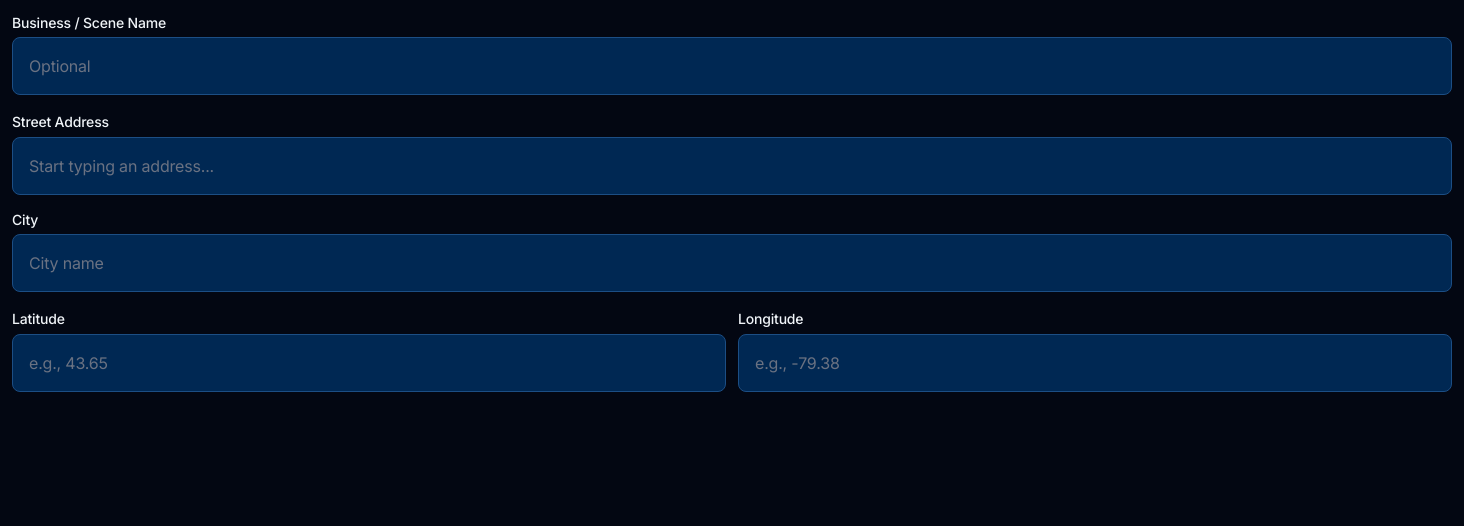
Test case: IncidentLocationFields — address pick › fills street, city and the coordinates, stamped geocoded
The width and height of the screenshot is (1464, 526).
Type "1450 Eg" into the dropdown named "Street Address" at (732, 166), box [12, 137, 1452, 195]
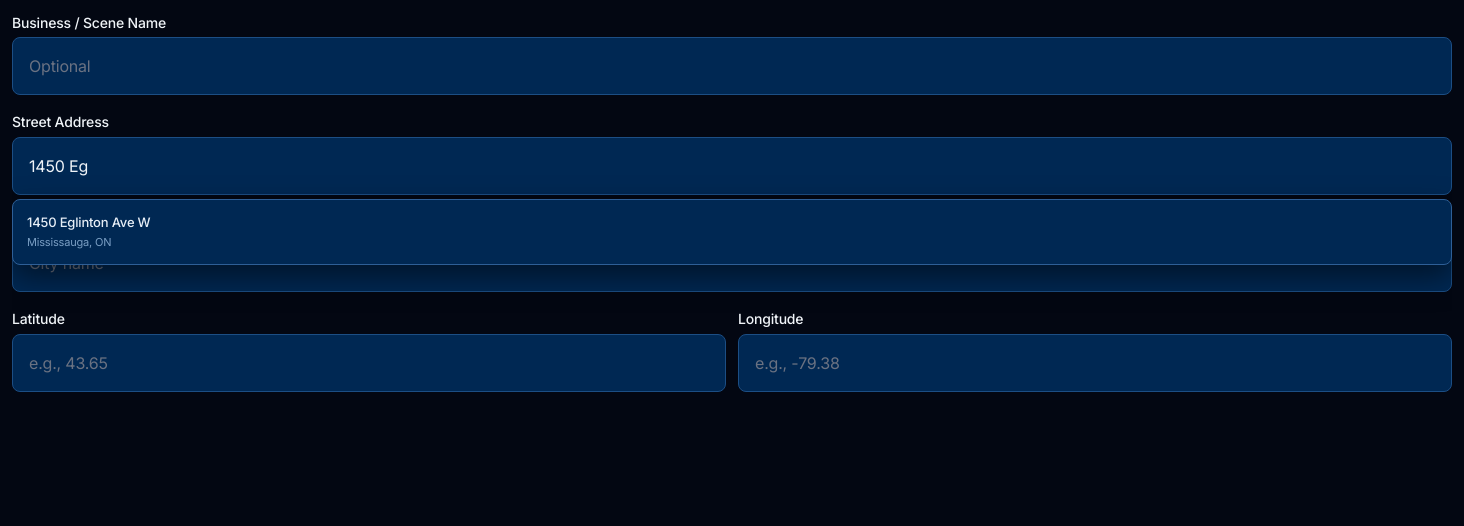
Check: the list is shown, box [12, 199, 1452, 265]
Click the text "1450 Eglinton Ave W" at (89, 222), box [27, 214, 150, 230]
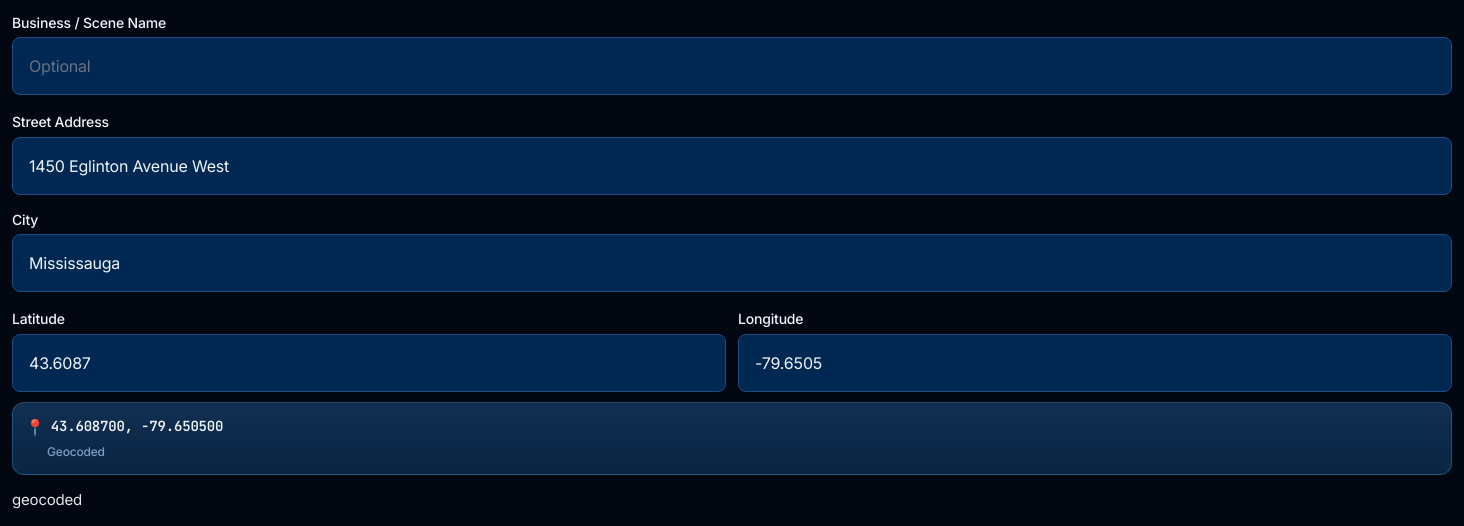
Check: the dropdown named "Street Address" holds "1450 Eglinton Avenue West", box [12, 137, 1452, 195]
Check: the field named "City" holds "Mississauga", box [12, 234, 1452, 292]
Check: the field named "Latitude" holds "43.6087", box [12, 334, 726, 392]
